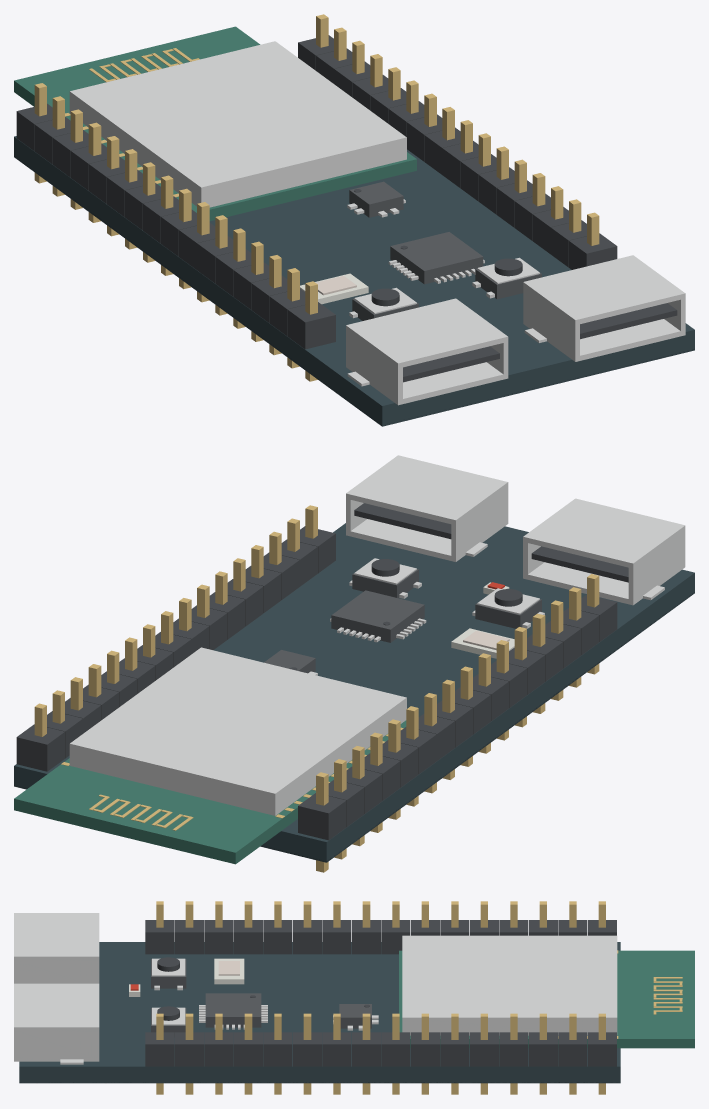
File: esp32-c6-devkitc-1.glb
3 views of the same model, one above another, from view 1: azimuth 30°, elevation 25°; view 2: azimuth 150°, elevation 25°; view 3: azimuth 270°, elevation 25° (orthographic). The views are drawn at different scales.
Visible parts, largest first — view 1: U4, PCB, J1, J3, J4, J2, U3, SW1, U2, SW2, D6; view 2: U4, PCB, J1, J3, J4, J2, U3, SW2, SW1, D6, U2; view 3: PCB, U4, J3, J1, J4, J2, U3, SW2, D6, SW1, U2.
Part boxes in pixels (x1,y1,x2,y2): U4: (14, 26, 416, 220); PCB: (14, 136, 694, 426); J1: (16, 83, 335, 381); J3: (298, 14, 617, 269); J4: (523, 255, 685, 361); J2: (346, 298, 508, 405); U3: (388, 232, 484, 284); SW1: (472, 257, 541, 299); U2: (347, 181, 405, 217); SW2: (349, 287, 418, 320); D6: (300, 273, 368, 304); U4: (14, 647, 406, 864); PCB: (14, 523, 694, 862); J1: (298, 574, 617, 872); J3: (16, 505, 335, 771); J4: (346, 455, 508, 561); J2: (523, 498, 685, 605); U3: (330, 590, 426, 642); SW2: (472, 588, 544, 628); SW1: (349, 558, 421, 598); D6: (451, 628, 514, 658); U2: (264, 650, 317, 675); PCB: (19, 942, 620, 1083); U4: (399, 935, 694, 1048); J3: (145, 1013, 616, 1094); J1: (145, 901, 616, 954); J4: (14, 983, 99, 1064); J2: (14, 913, 99, 983); U3: (199, 993, 267, 1029); SW2: (151, 957, 186, 990); D6: (214, 958, 244, 984); SW1: (151, 1006, 186, 1037); U2: (333, 1004, 378, 1030).
Size of the model in its own units: 0.0254 by 0.0074 by 0.0587.
